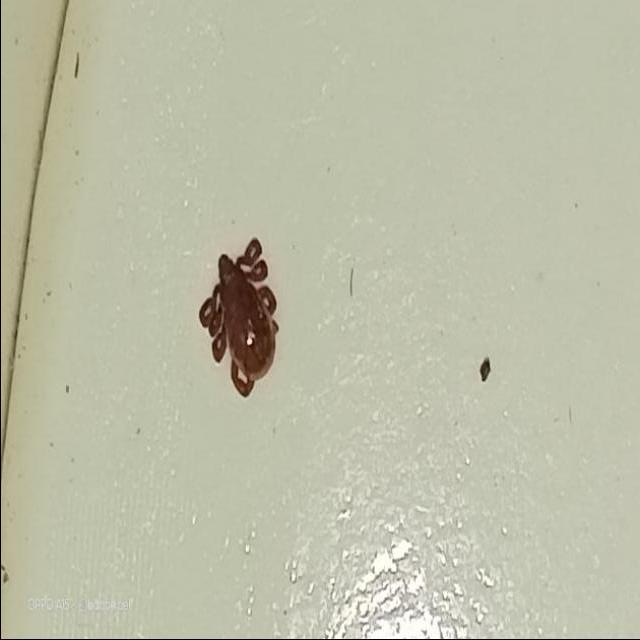Rhipicephalus Sanguineus-M: (197, 240, 280, 401)
